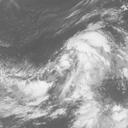cyclone: (64, 29, 112, 79)
